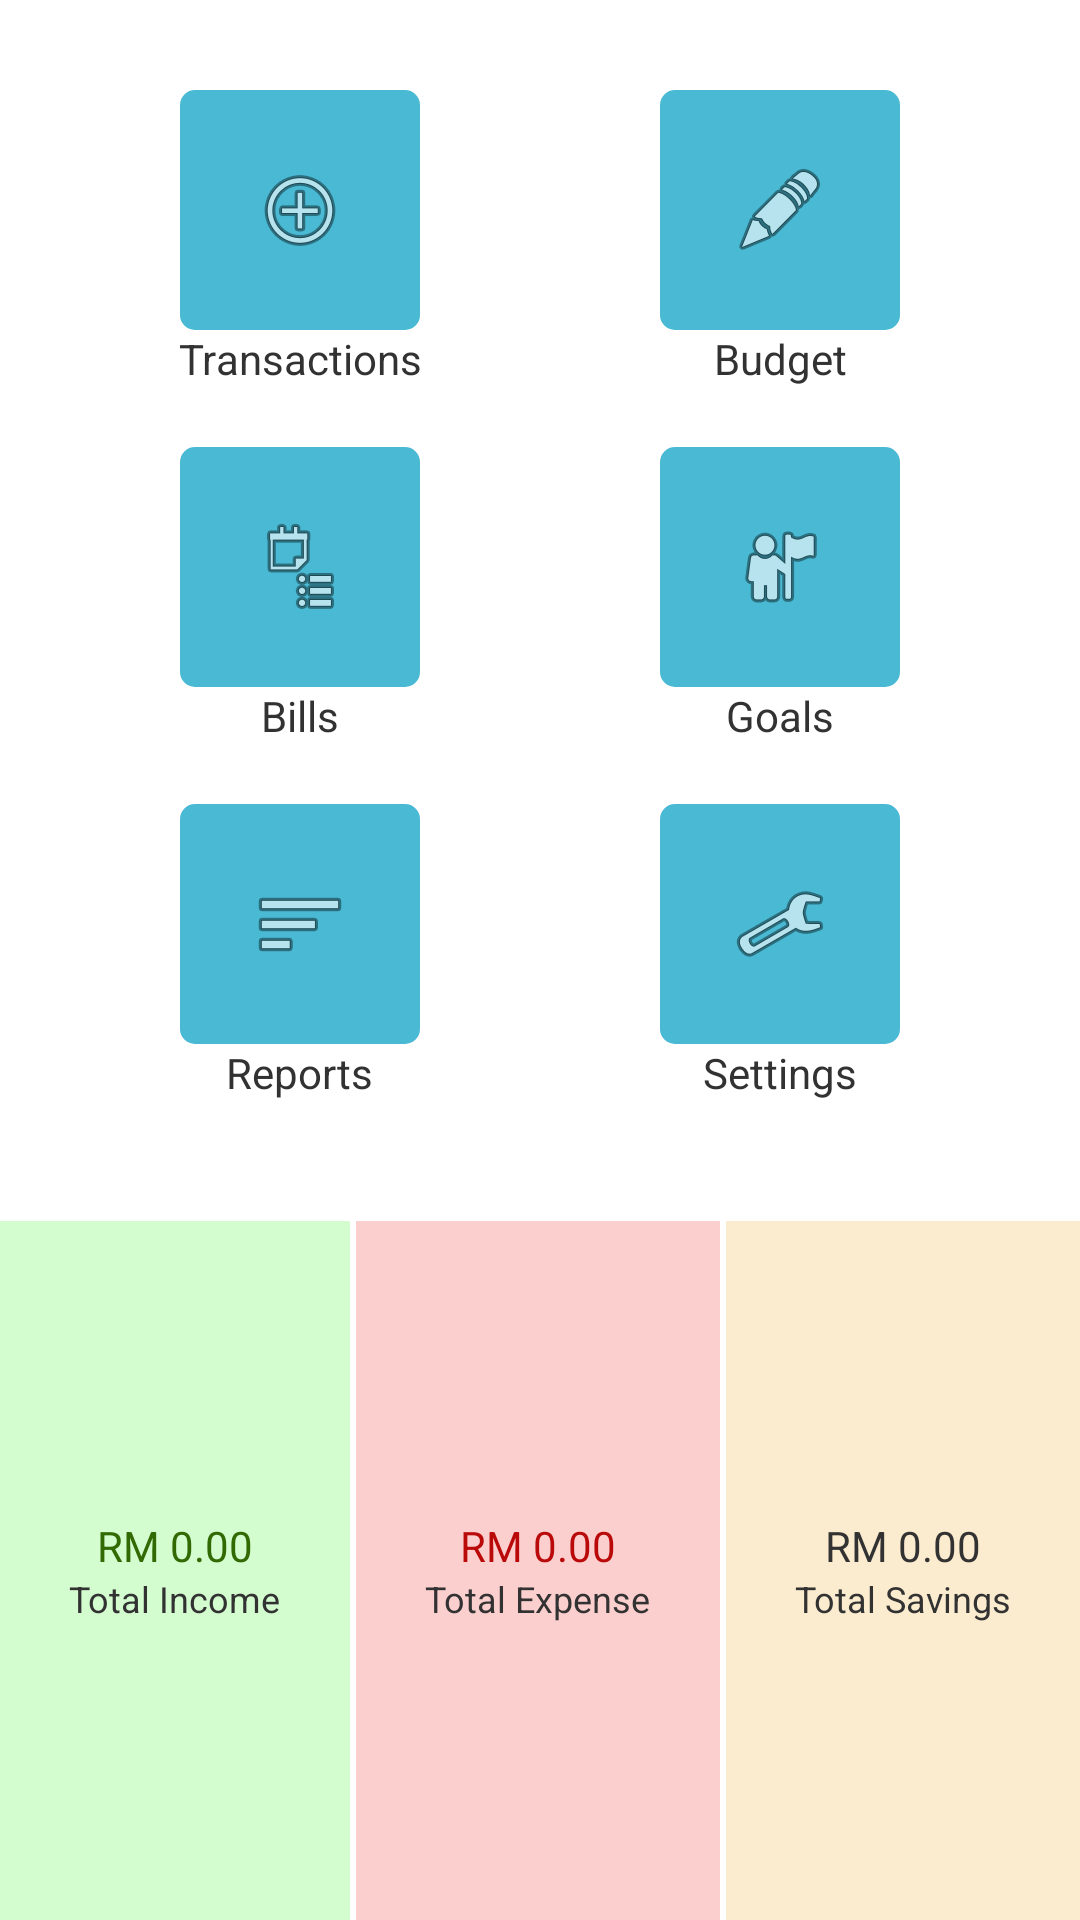

Locate icon controls on the screen. Image size 1080 x 1920, boxes as detection(x1, y1, x2, y2).
add: detection(180, 90, 420, 330)
agenda: detection(180, 447, 420, 687)
edit: detection(660, 90, 900, 330)
preferences: detection(660, 804, 900, 1044)
sort by size: detection(180, 804, 420, 1044)
